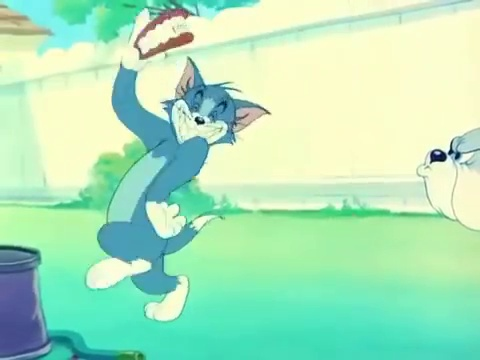tom: (159, 56, 270, 159)
